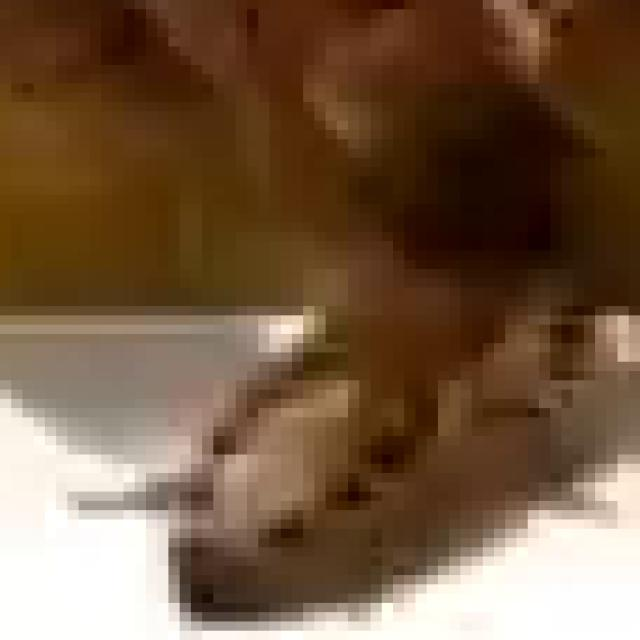honeybee: (163, 28, 632, 630)
